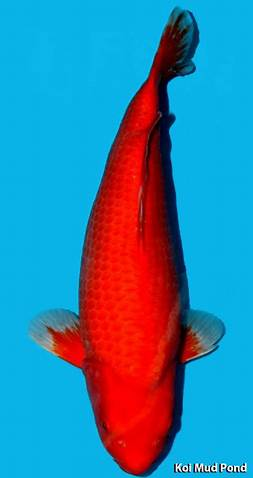red: (29, 7, 228, 475)
